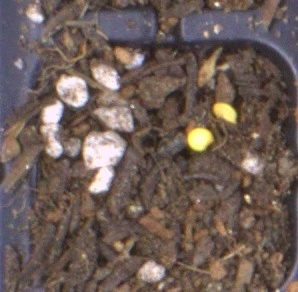chilli seed: (187, 127, 215, 152), (212, 102, 238, 125)
